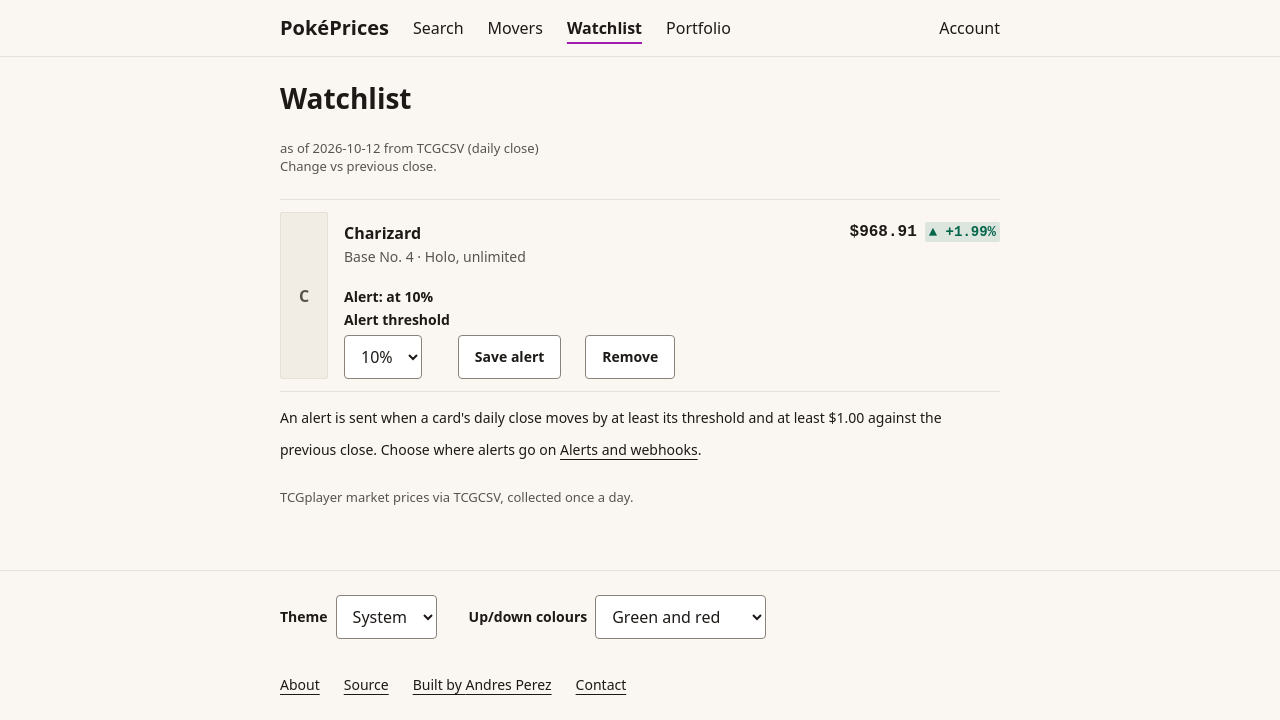
Scenario: the watchlist: Removed. Undo › puts the alert back too when the row had one: the watchlist PUT, then the alert PUT, then one read
Expected: the list named "Watchlist" is shown, top-left (280, 199), bottom-right (1000, 392)
Click the button with aria-label "Remove Charizard": (630, 357) top-left (585, 335), bottom-right (675, 379)
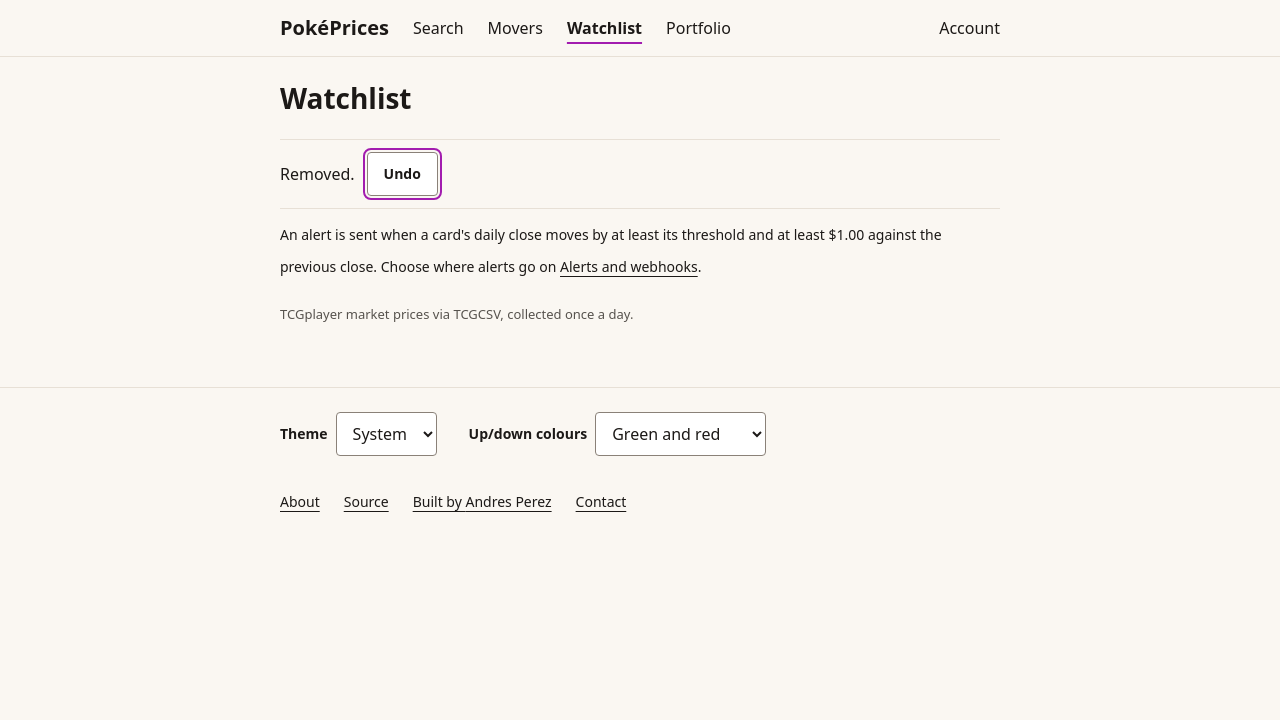
Click the button "Undo": (402, 174) top-left (367, 152), bottom-right (438, 196)
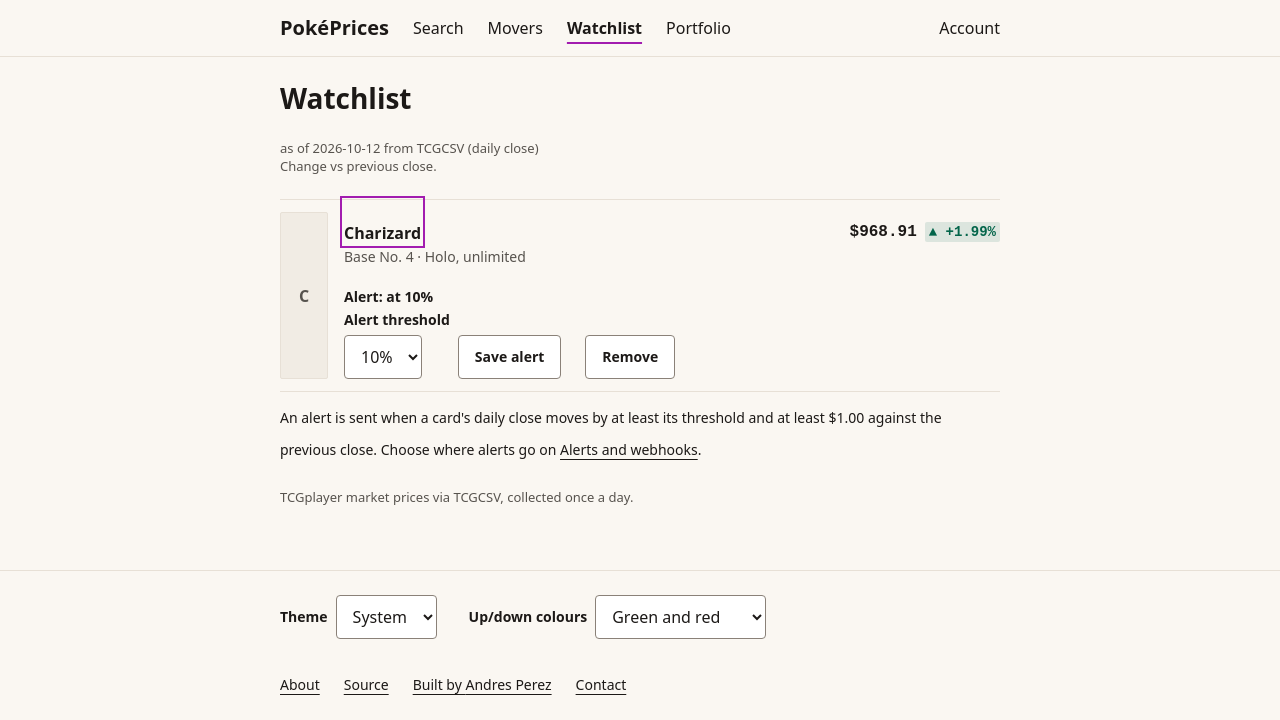
Expected: the text "Alert: at 10%" is shown, top-left (344, 287), bottom-right (433, 306)
